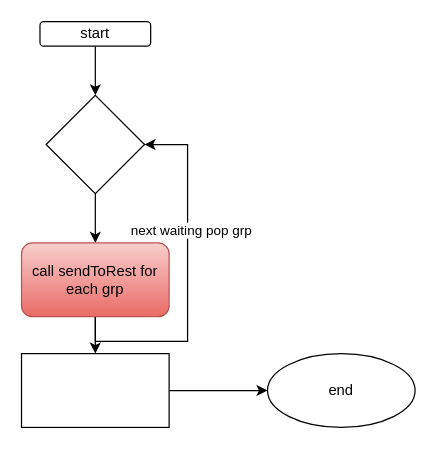
Some shapes in this 437 by 449 pixel diagram are drawn without their labels. The centre of each missing label's shape, as x and y in pixels:
FOR all waiting for exit data: pixel 95 144
return remaining waiting rest array: pixel 94 389
